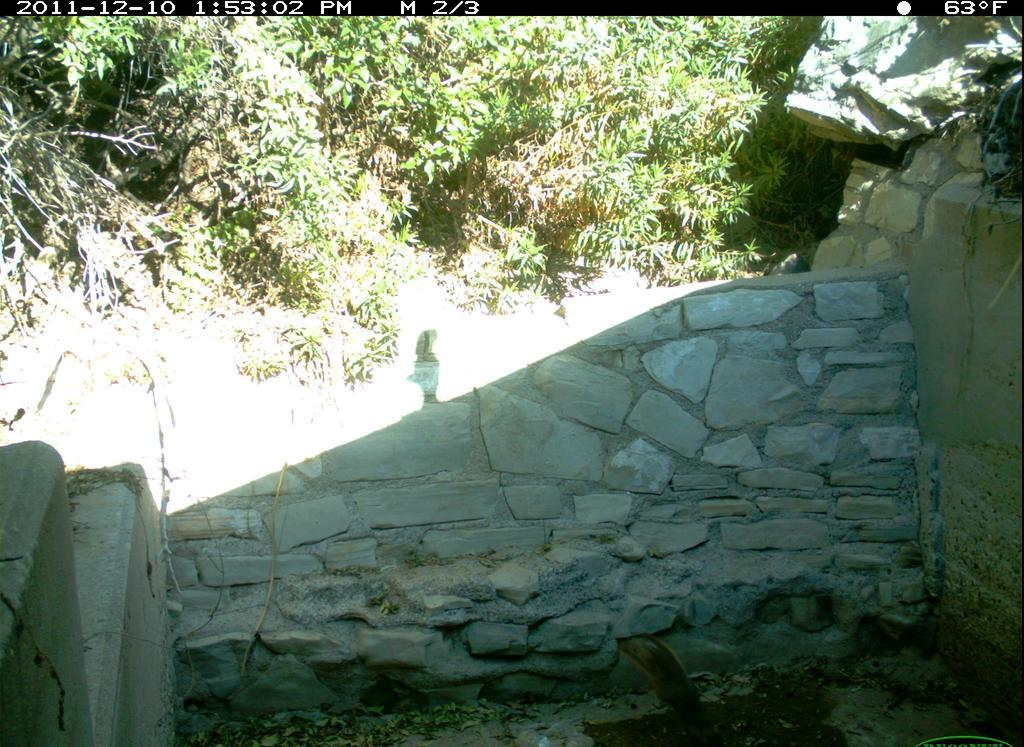squirrel: (609, 623, 742, 743)
